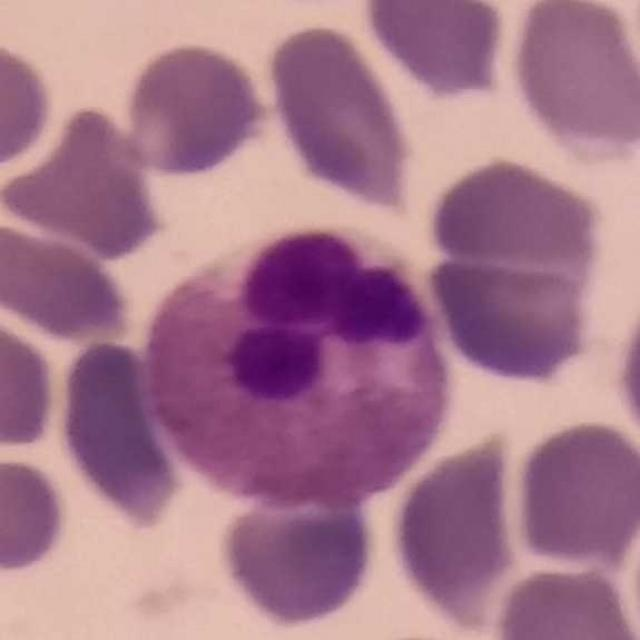Eosinophil: (128, 213, 468, 519)
RBC: (421, 154, 612, 390), (262, 18, 418, 215), (212, 462, 383, 632), (388, 426, 526, 629), (50, 334, 188, 530), (1, 101, 167, 263), (118, 37, 273, 181), (505, 0, 639, 164), (509, 416, 639, 570), (0, 215, 136, 344), (357, 0, 511, 102), (489, 560, 640, 640), (0, 451, 72, 579), (0, 304, 60, 457), (0, 34, 58, 180), (611, 272, 640, 472)
